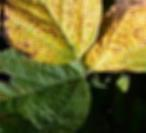Tomato Septoria leaf spot: (0, 43, 94, 133), (0, 0, 101, 65), (83, 0, 146, 78)
